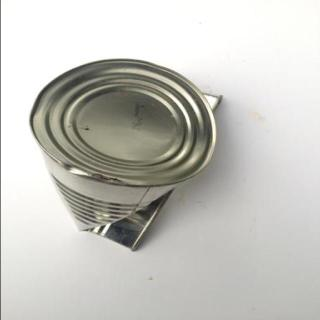Anorganik: (26, 56, 224, 252)
